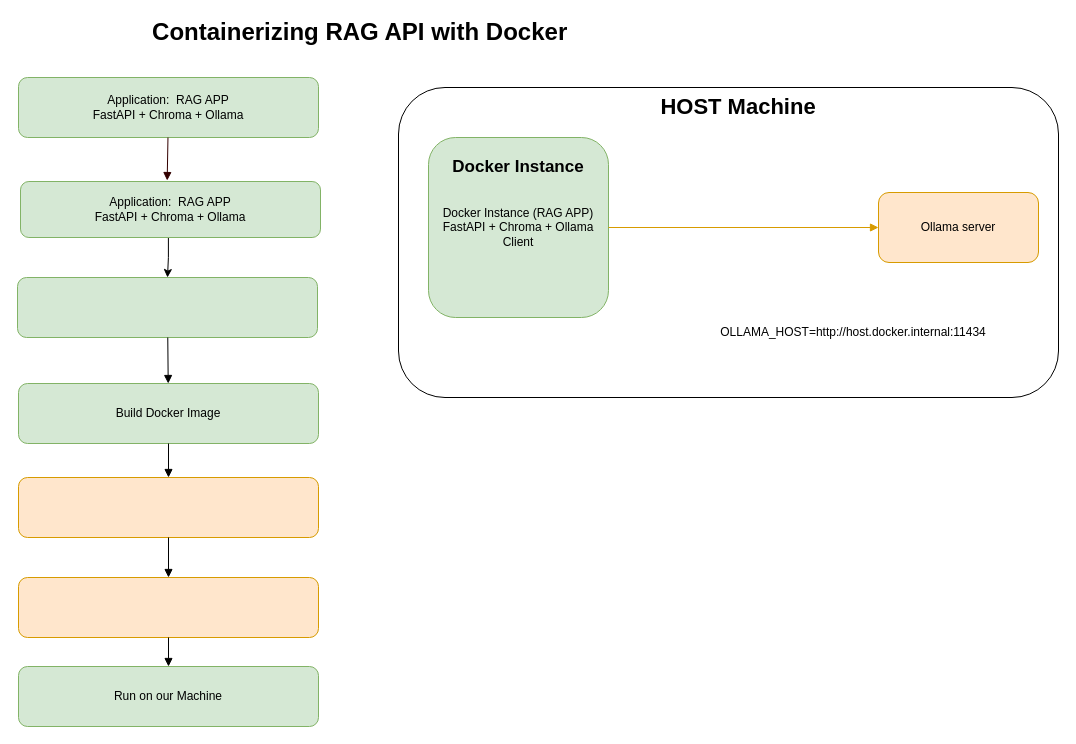
Image size: 1076x744. Some labels were removed from this diagram. Here are the shapes that lost their labels. From the top down, the centre of each, then its label:
At [167,307]: "Create Dockerfile with Base Image + app files".
At [168,507]: "Push the Image to Docker Hub (Access for downloads)".
At [168,607]: "Pull the image from docker Hub".
